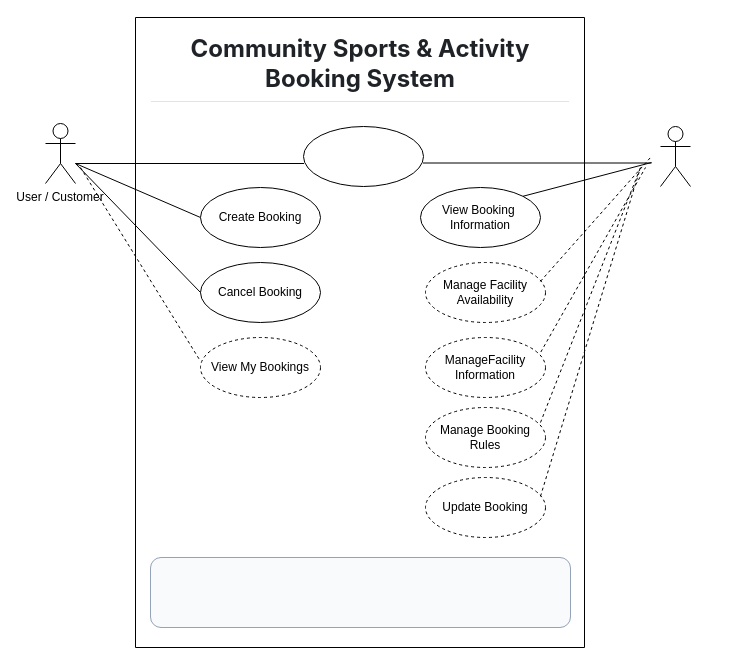
This 729x670 diagram has some shape labels left out. The shapes that lost their labels are listed below. From the top down, each one's centre as x and y in pixels, then its label:
the point at 363,156: View Facility Availability
the point at 675,156: Booking Staff
the point at 360,592: Legend Solid: supported by the scenario Dashed: candidate, needs clarification
